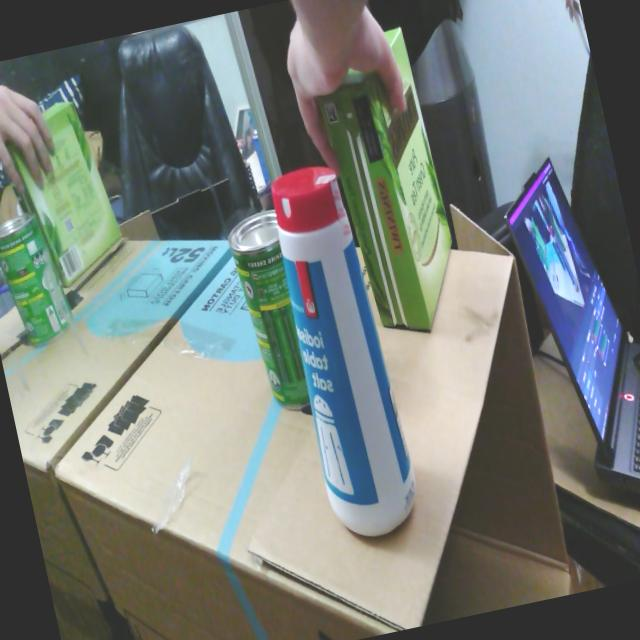nestle_milo_tin: (228, 210, 309, 409)
twinings_greentea_box: (318, 27, 452, 328)
woolworths_salt_bottle: (271, 167, 416, 535)
